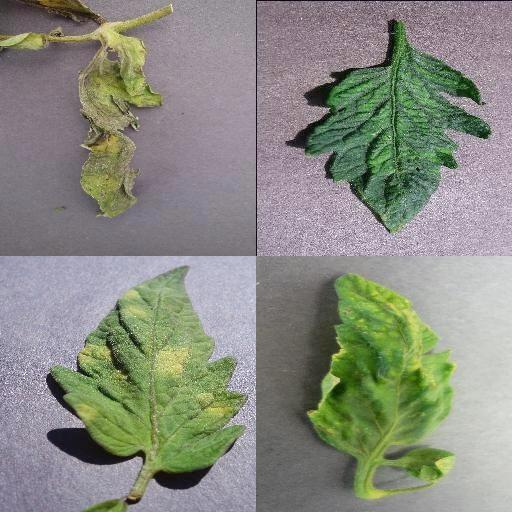Late Blight: (79, 35, 165, 219)
Leaf Mold: (51, 265, 247, 473)
Mosaic Virus: (305, 47, 493, 233)
Yellow Leaf Curl Virus: (306, 273, 452, 449)
